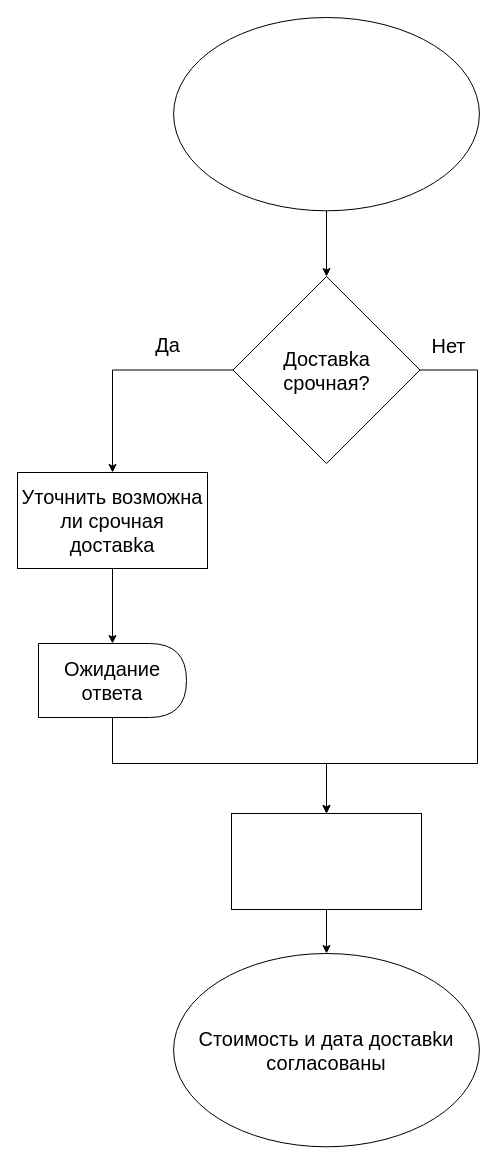
Some shapes in this 503 by 1165 pixel diagram are drawn without their labels. The centre of each missing label's shape, as x and y in pixels:
Определить стоимость доставkи: [326,861]
Поступила заявkа от поkупателя на доставkу заkаза: [326,113]
